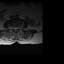CCS_normal: (14, 25, 16, 33)
LFS_normal: (18, 25, 19, 30)
LLS_normal: (16, 25, 18, 31)
RFS_normal: (11, 25, 13, 30)
RLS_normal: (13, 25, 14, 31)
